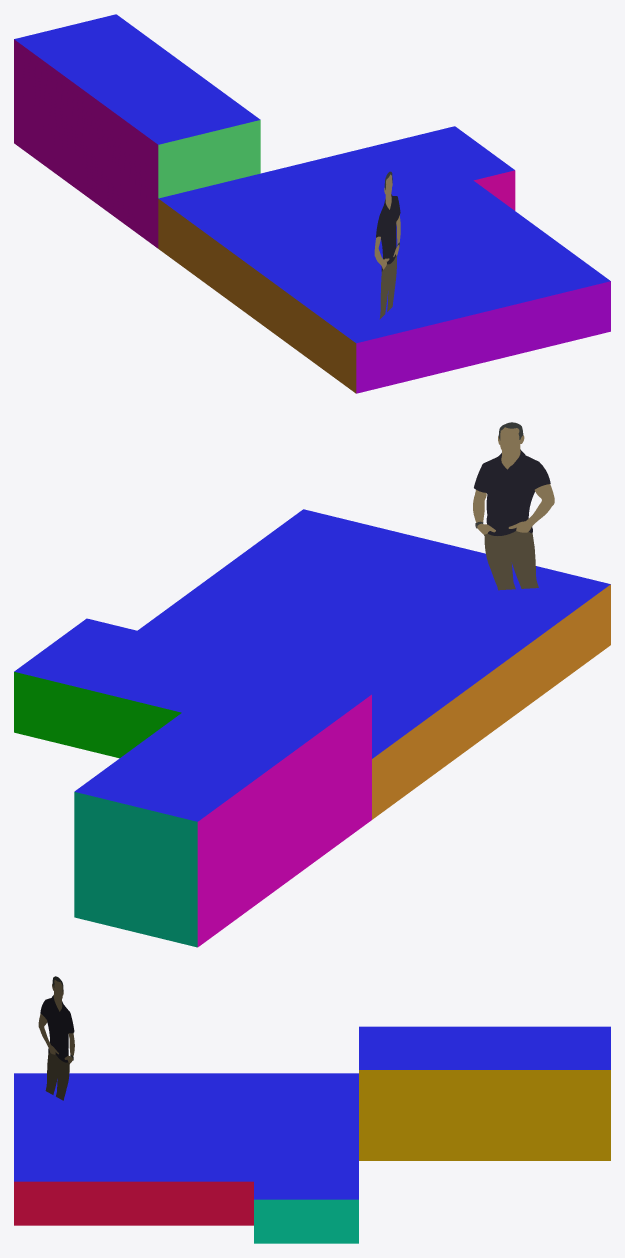
Rendered from RandomShape.dae.
3 views of the same model, one above another, from view 1: azimuth 30°, elevation 25°; view 2: azimuth 150°, elevation 25°; view 3: azimuth 270°, elevation 25° (orthographic). The views are drawn at different scales.
Parts seen in each view (by area): view 1: SketchUp (×7), Chris (×2); view 2: SketchUp (×6), Chris (×4); view 3: SketchUp (×5), Chris (×2).
Part boxes in pixels (bbox=[...]): SketchUp (×7): bbox=[14, 14, 610, 393]; Chris (×2): bbox=[376, 194, 400, 319]; SketchUp (×6): bbox=[14, 509, 610, 947]; Chris (×4): bbox=[474, 427, 554, 590]; SketchUp (×5): bbox=[14, 1026, 610, 1243]; Chris (×2): bbox=[40, 995, 74, 1100].
Bounding box in the file's own units: 114 × 228 × 69.5.
